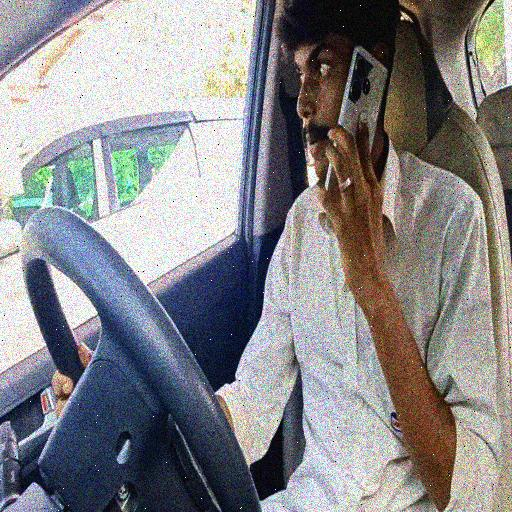Talking_on_phone: (245, 0, 482, 479)
